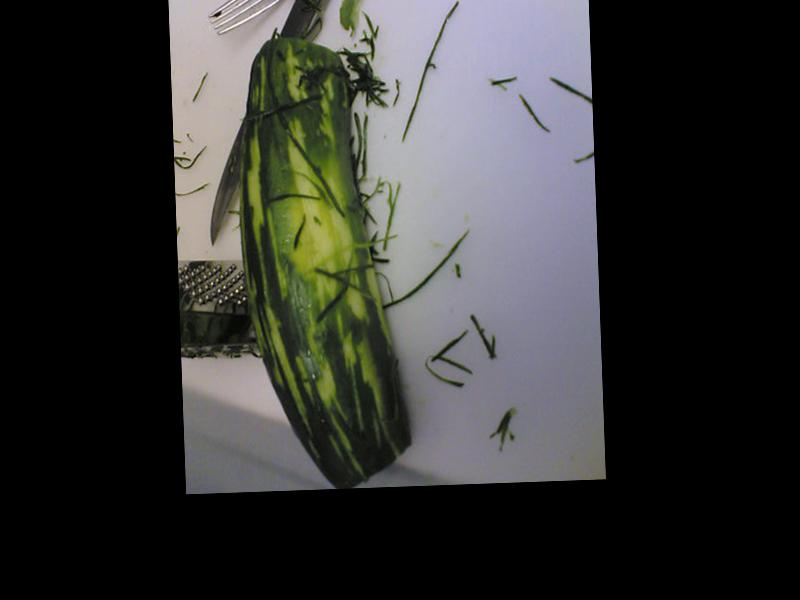Cucumber: (234, 32, 413, 489)
